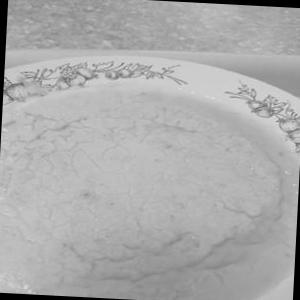porridge: (0, 69, 292, 300)
